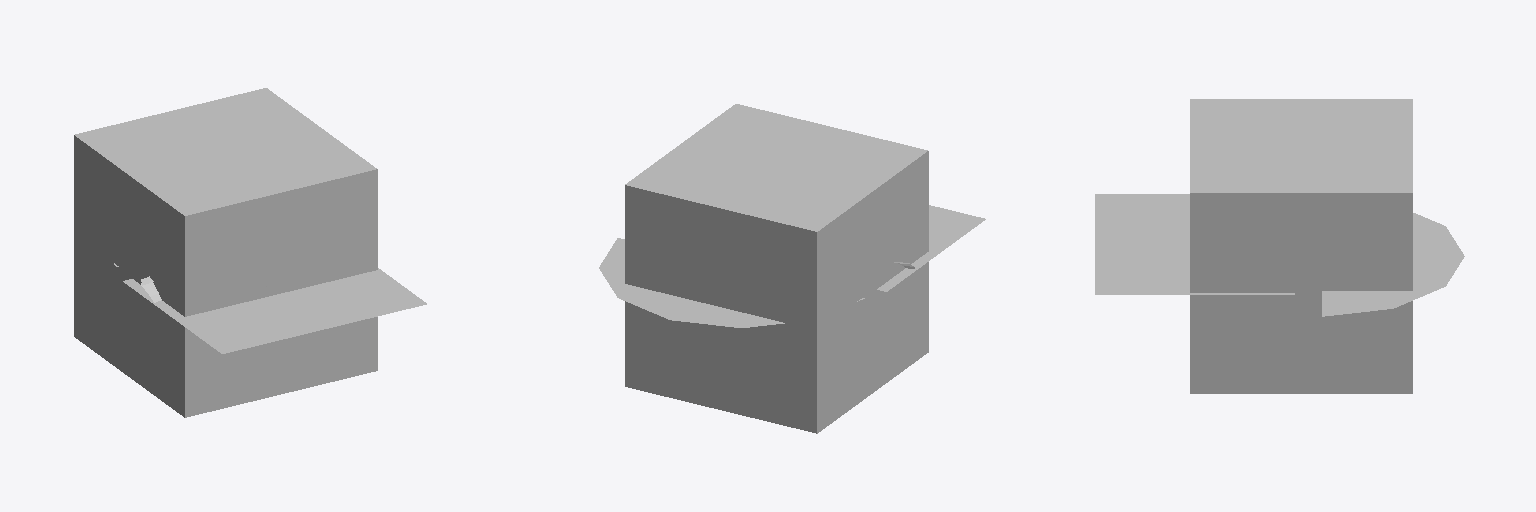
Rendered from coolcastle.obj.
3 views of the same model, side by side, from view 1: azimuth 30°, elevation 25°; view 2: azimuth 150°, elevation 25°; view 3: azimuth 270°, elevation 25° (orthographic).
Visible parts, largest first — view 1: Cube_Cube.002, DWater_canyon0_1_34_SKP__x_water.001; view 2: Cube_Cube.002, DWater_canyon0_1_34_SKP__x_water.001; view 3: Cube_Cube.002, DWater_canyon0_1_34_SKP__x_water.001.
Part boxes in pixels (x1,y1,x2,y2): Cube_Cube.002: (74, 88, 377, 417); DWater_canyon0_1_34_SKP__x_water.001: (114, 263, 426, 353); Cube_Cube.002: (625, 104, 928, 433); DWater_canyon0_1_34_SKP__x_water.001: (599, 205, 985, 327); Cube_Cube.002: (1190, 99, 1412, 393); DWater_canyon0_1_34_SKP__x_water.001: (1095, 194, 1464, 316).
Bounding box in the file's own units: 1371 × 1023 × 1700.